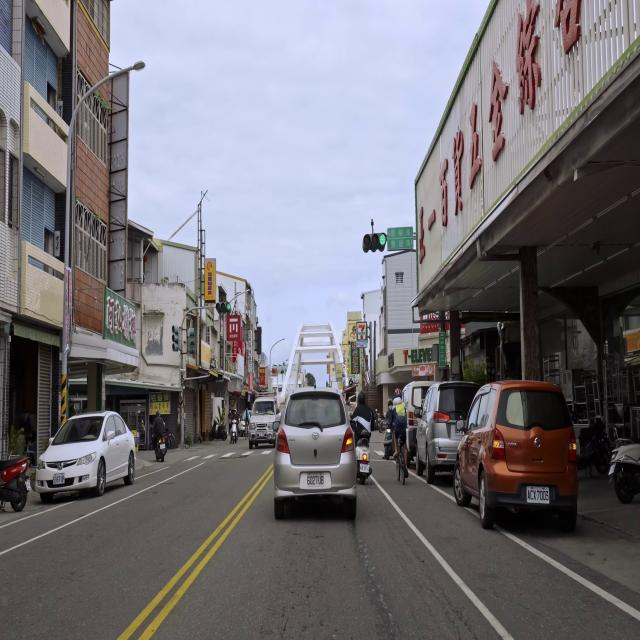green light: (363, 233, 386, 249), (216, 302, 232, 312)
